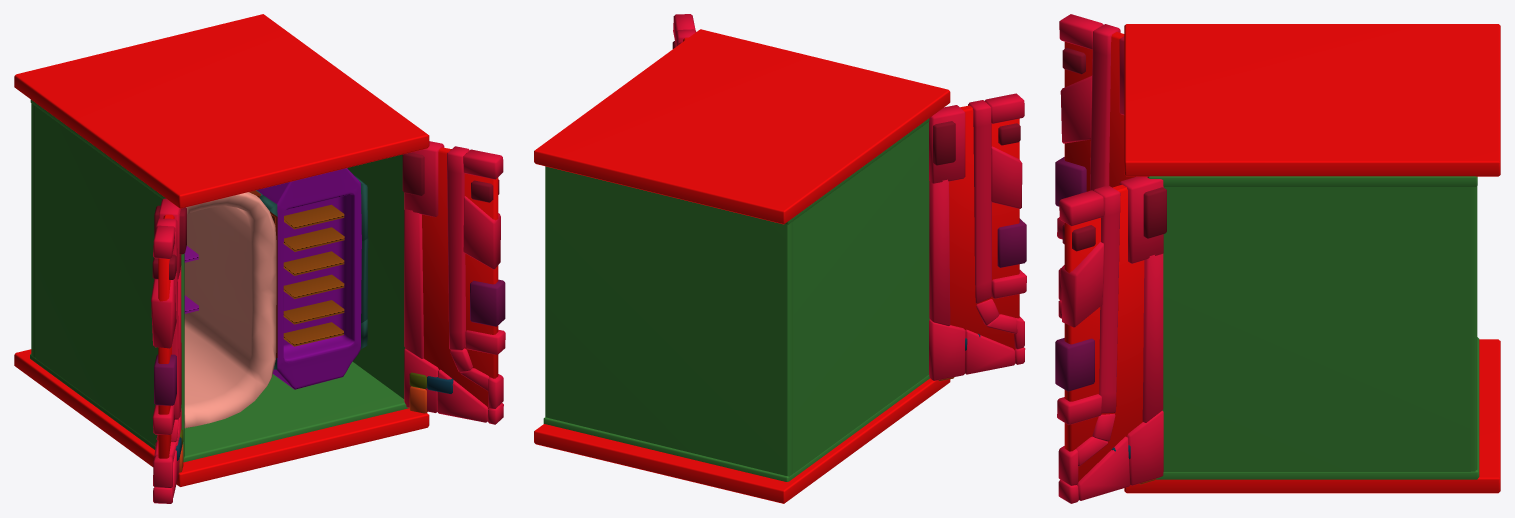
The model's file is Closet.fbx.
The picture shows the model from 3 angles, left to right: view 1: azimuth 30°, elevation 25°; view 2: azimuth 150°, elevation 25°; view 3: azimuth 270°, elevation 25°; orthographic projection. The views are drawn at different scales.
Visible parts, largest first — view 1: Closet_low; view 2: Closet_low; view 3: Closet_low.
Part boxes in pixels (bbox=[...]): Closet_low: bbox=[14, 14, 505, 503]; Closet_low: bbox=[534, 14, 1026, 503]; Closet_low: bbox=[1055, 14, 1500, 503].
Size of the model in its own units: 267 by 213 by 258.
